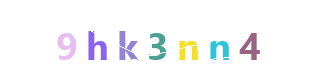3: (123, 0, 203, 80)
4: (211, 0, 291, 80)
9: (59, 0, 139, 80)
H: (70, 0, 150, 80)
K: (118, 0, 198, 80)
N: (148, 0, 228, 80), (180, 0, 260, 80)
